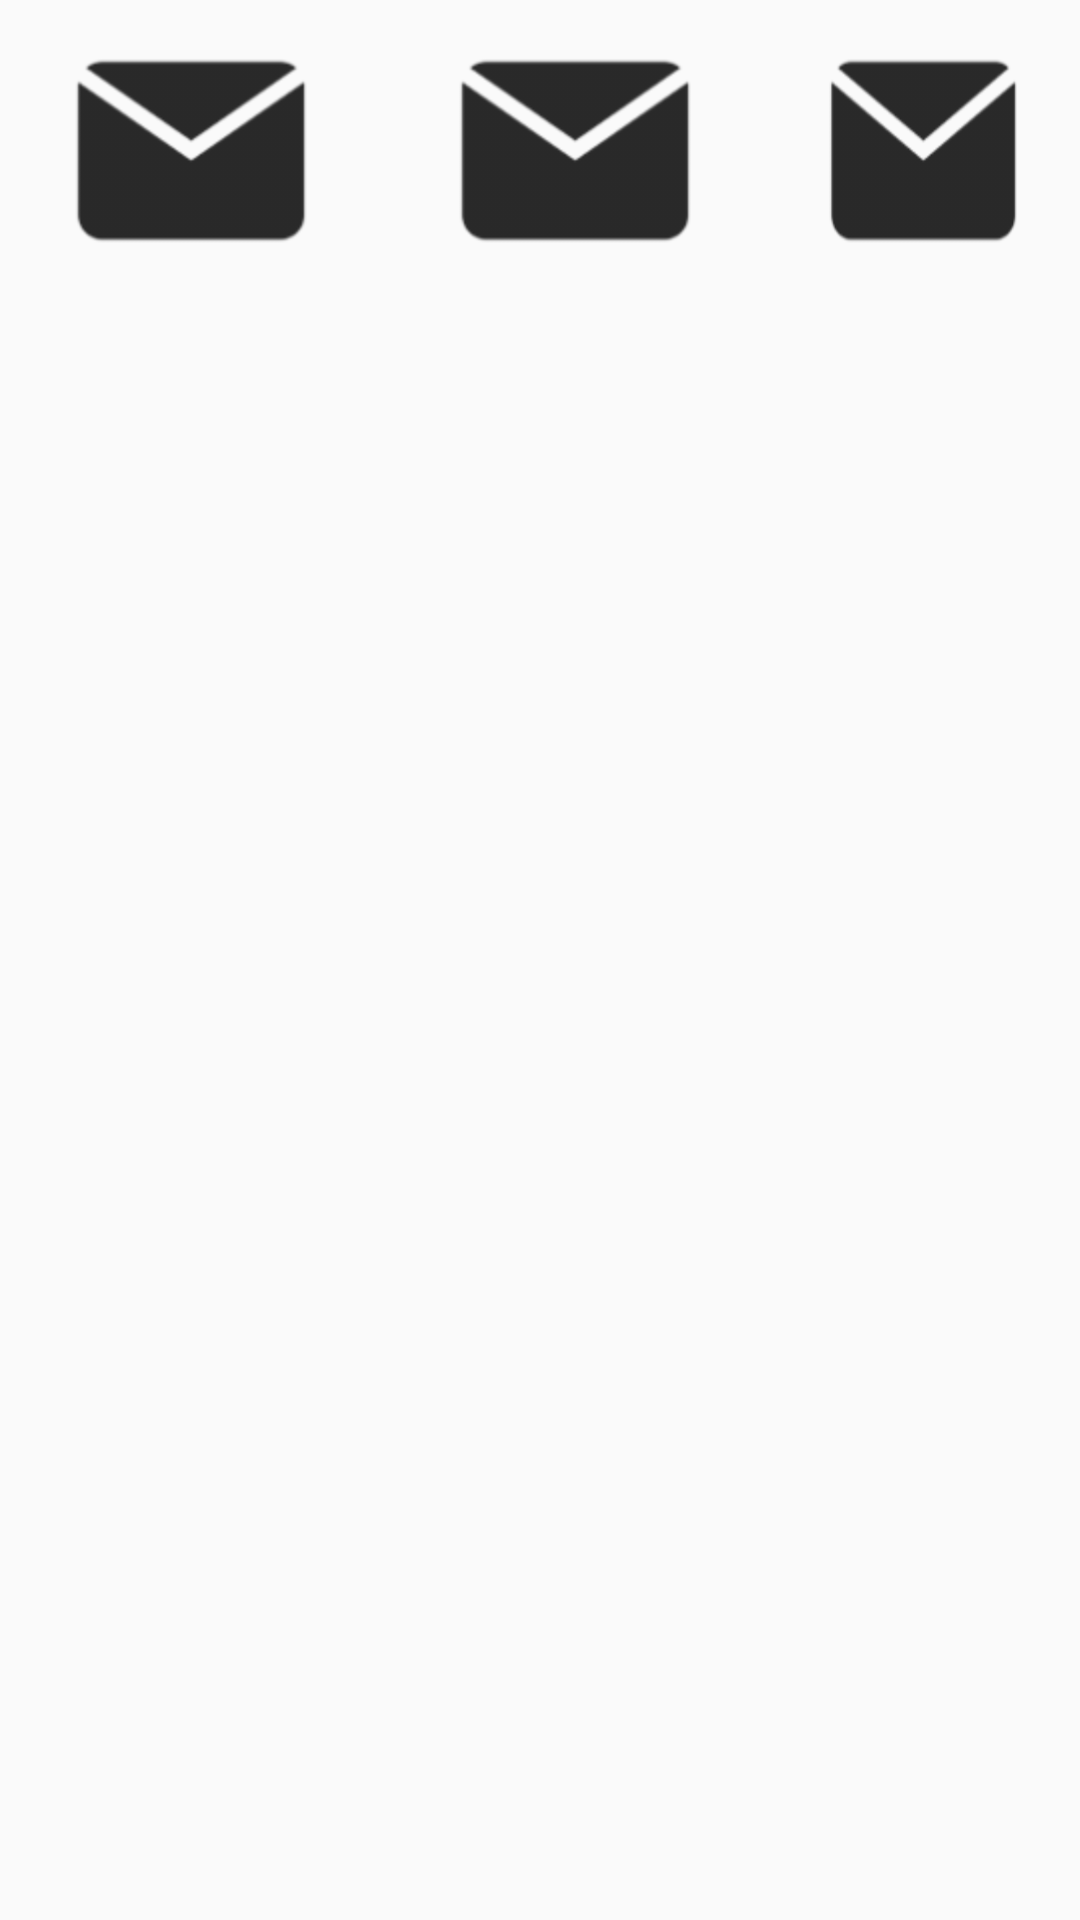

Icon click points for this 1080 × 1920 phone screenshot, format point (x, y):
message: point (191, 150), point (575, 150), point (923, 150)
